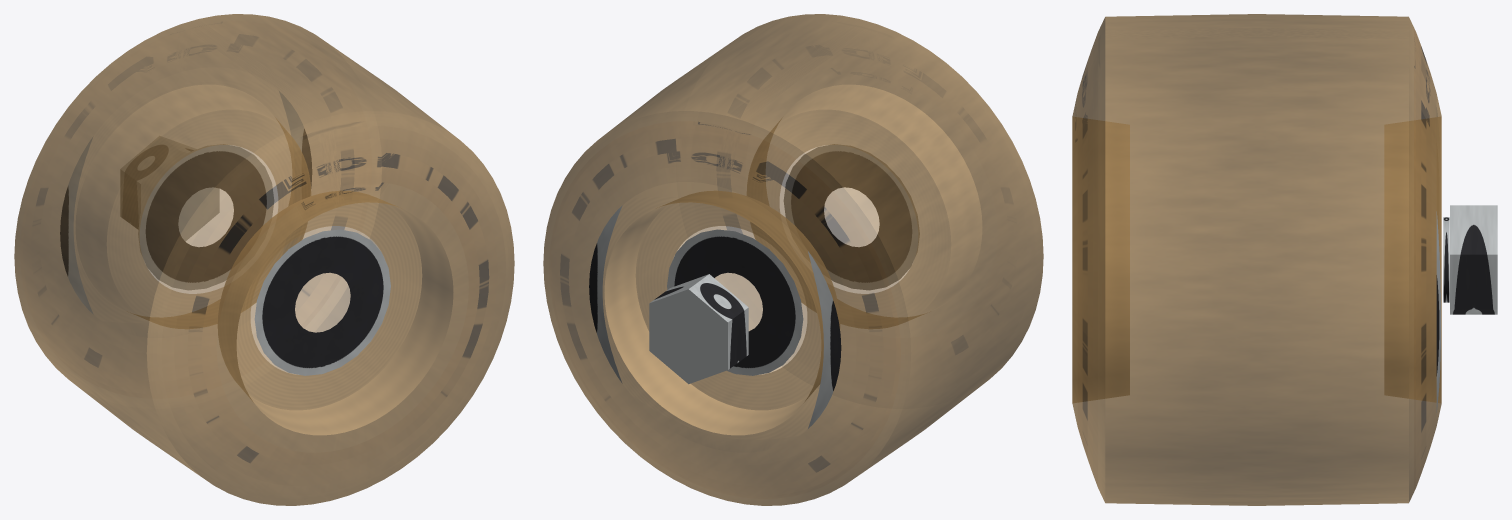
The model's file is sk8_wheel_cruiser_60_smoke.glb.
3 renders of one model, left to right at view 1: azimuth 30°, elevation 25°; view 2: azimuth 150°, elevation 25°; view 3: azimuth 270°, elevation 25°, orthographic. The views are drawn at different scales.
Visible parts, largest first — view 1: SM_Wheel_cruiser_60; view 2: SM_Wheel_cruiser_60; view 3: SM_Wheel_cruiser_60.
Part boxes in pixels (<box>): SM_Wheel_cruiser_60: <box>14,14,514,505</box>; SM_Wheel_cruiser_60: <box>543,14,1043,505</box>; SM_Wheel_cruiser_60: <box>1072,14,1497,505</box>.
Size of what is drawn, in the model's own units: 0.06 by 0.06 by 0.0518.
Materials: 1 (1 with a texture image).
